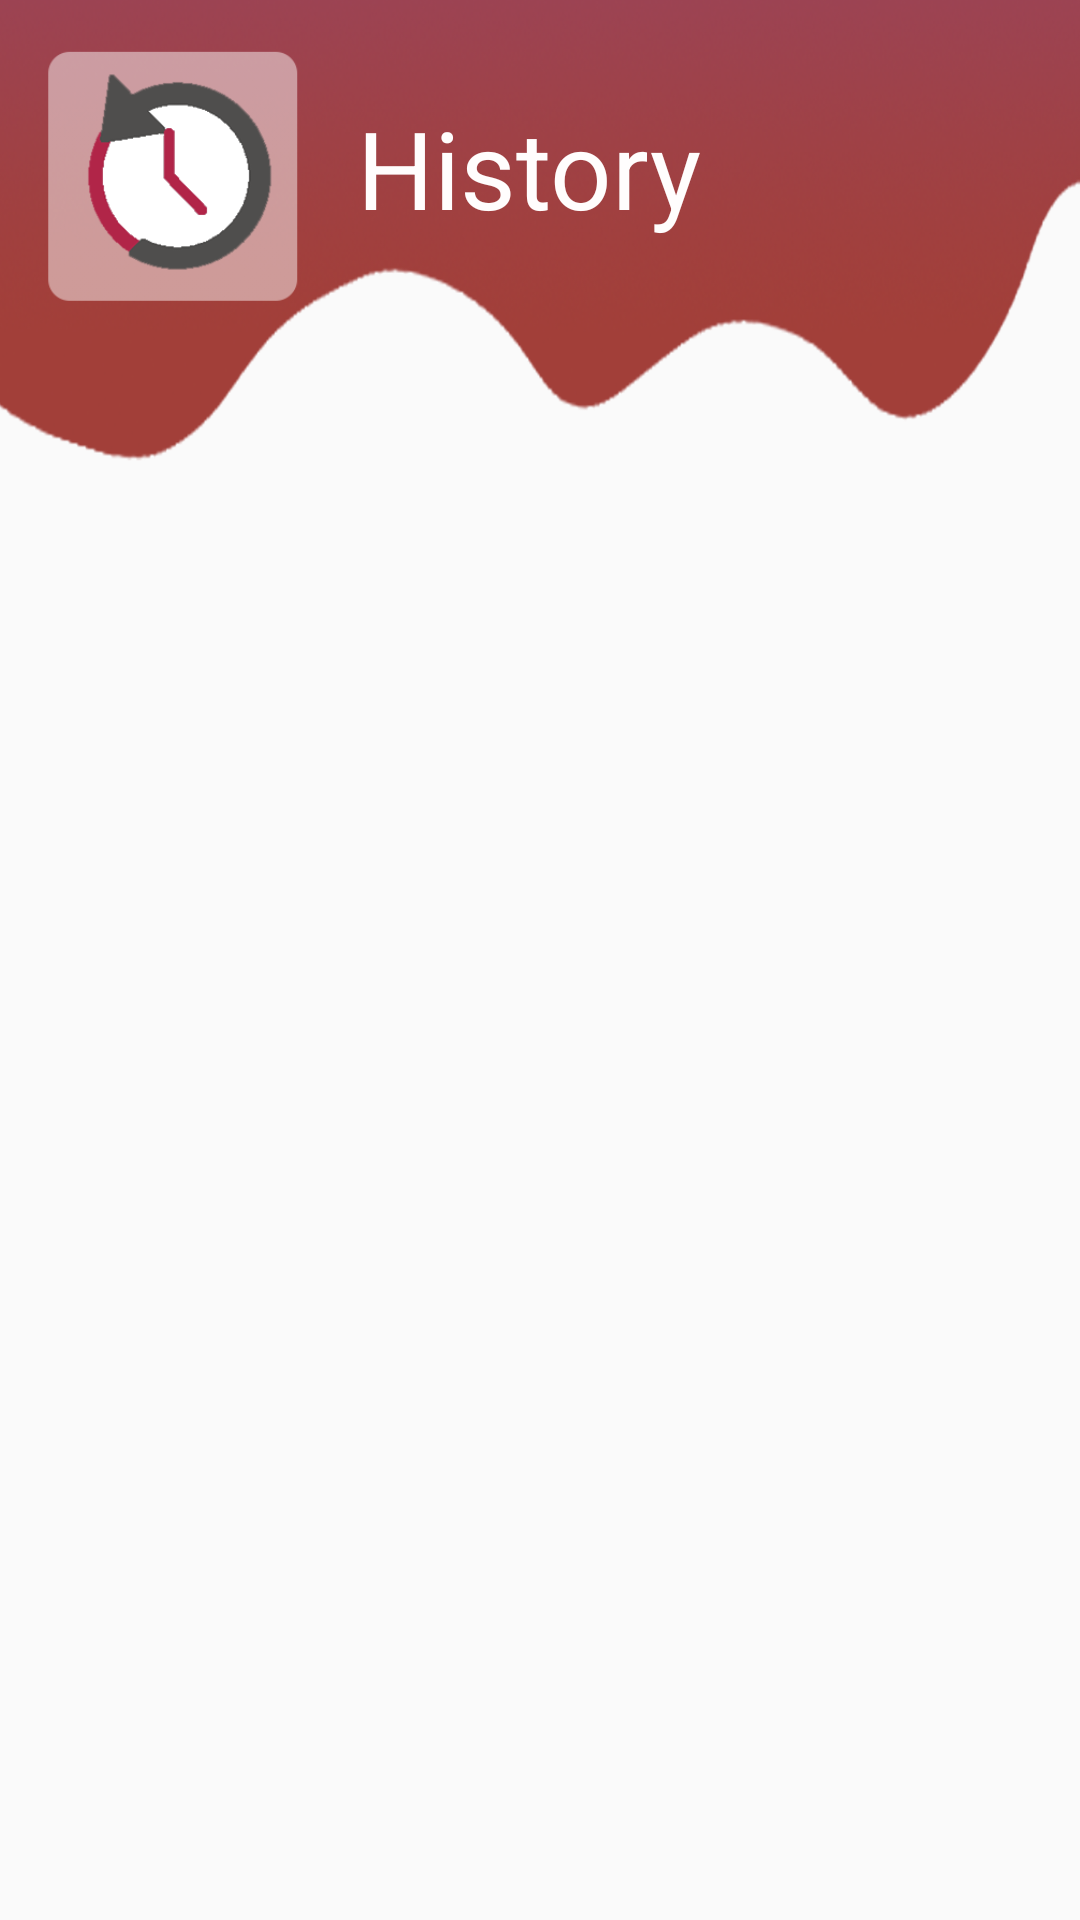

Named icons in this screenshot (1080 × 1920) and their centers, (x=x, y=y):
clock: (x=173, y=176)
